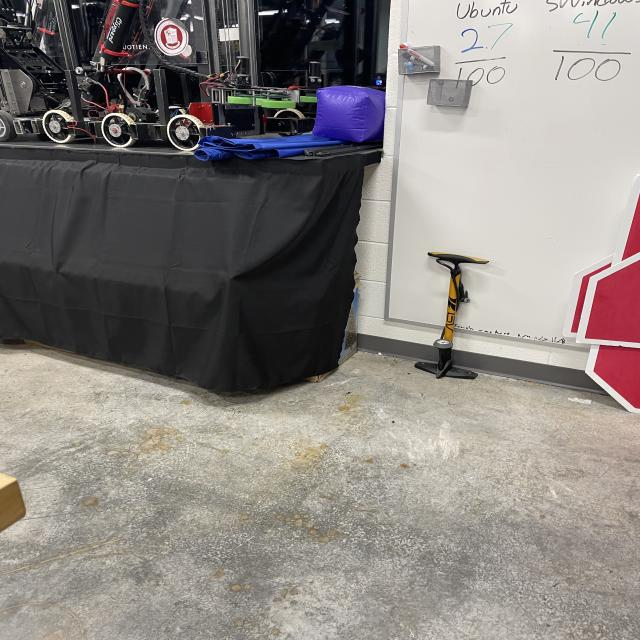frc_cube: (310, 82, 388, 144)
